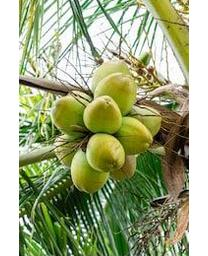coconut: (92, 72, 138, 117), (68, 146, 111, 191), (82, 93, 124, 134), (85, 135, 127, 176), (112, 115, 155, 155), (51, 94, 90, 137), (88, 60, 128, 95), (128, 103, 167, 137)
